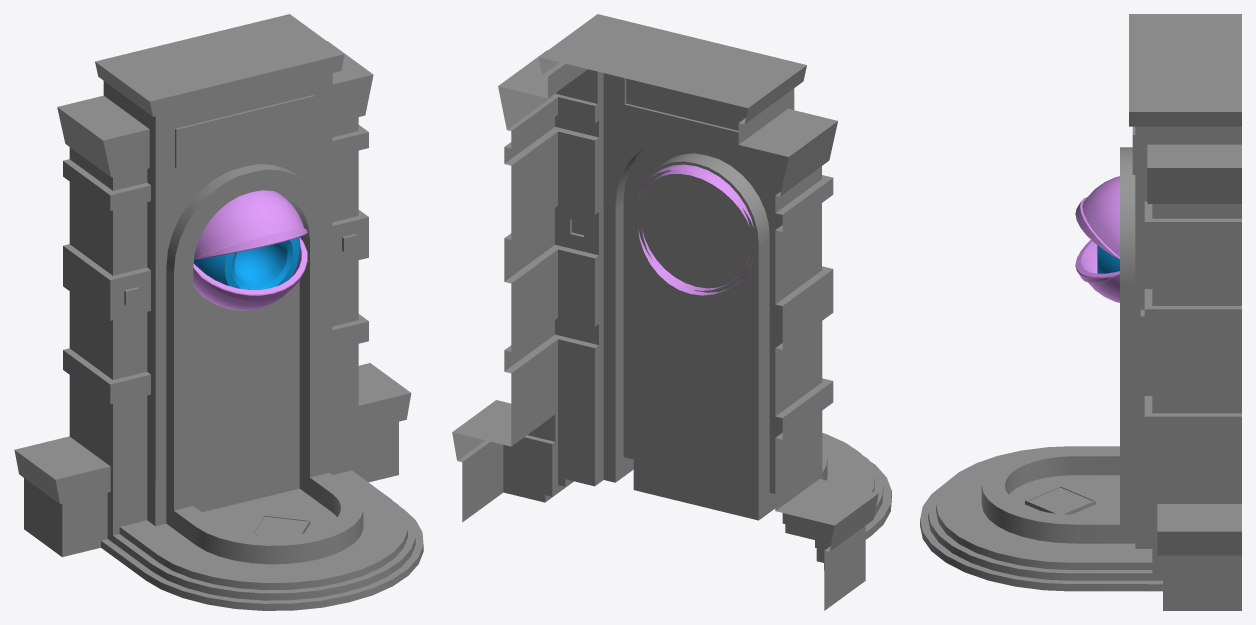
Rendered from Assets_09_Shrine.FBX.
3 views of the same model, side by side, from view 1: azimuth 30°, elevation 25°; view 2: azimuth 150°, elevation 25°; view 3: azimuth 270°, elevation 25° (orthographic). The views are drawn at different scales.
Visible parts, largest first — view 1: Shrine, Shrine_EyeLid_Top, Shrine_EyeBall, Shrine_EyeLid_Bottom; view 2: Shrine, Shrine_EyeLid_Top, Shrine_EyeLid_Bottom; view 3: Shrine, Shrine_EyeLid_Top, Shrine_EyeLid_Bottom, Shrine_EyeBall.
Part boxes in pixels (x1,y1,x2,y2): Shrine: (14,14,423,610); Shrine_EyeLid_Top: (194,190,307,259); Shrine_EyeBall: (193,237,300,289); Shrine_EyeLid_Bottom: (193,237,307,310); Shrine: (452,14,891,610); Shrine_EyeLid_Top: (638,164,753,227); Shrine_EyeLid_Bottom: (638,230,753,295); Shrine: (920,14,1241,610); Shrine_EyeLid_Top: (1075,176,1119,259); Shrine_EyeLid_Bottom: (1075,240,1119,302); Shrine_EyeBall: (1097,245,1119,273).
Bounding box in the file's own units: 4.72 × 5.71 × 3.59.
